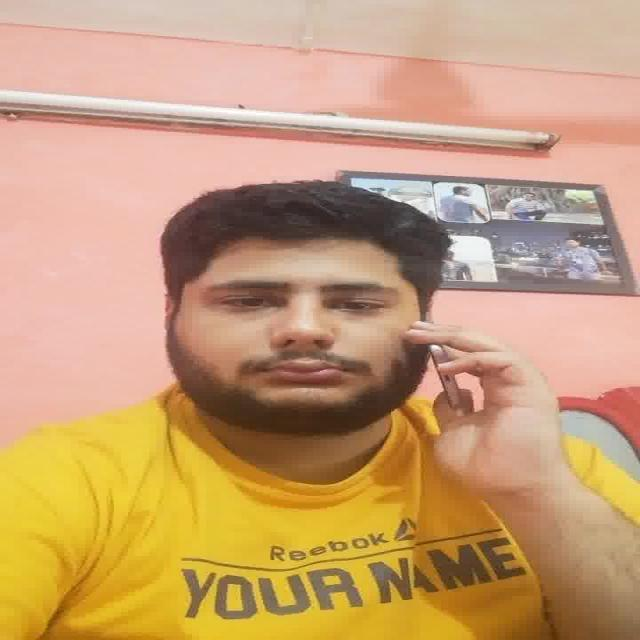Phone: (426, 336, 464, 414)
